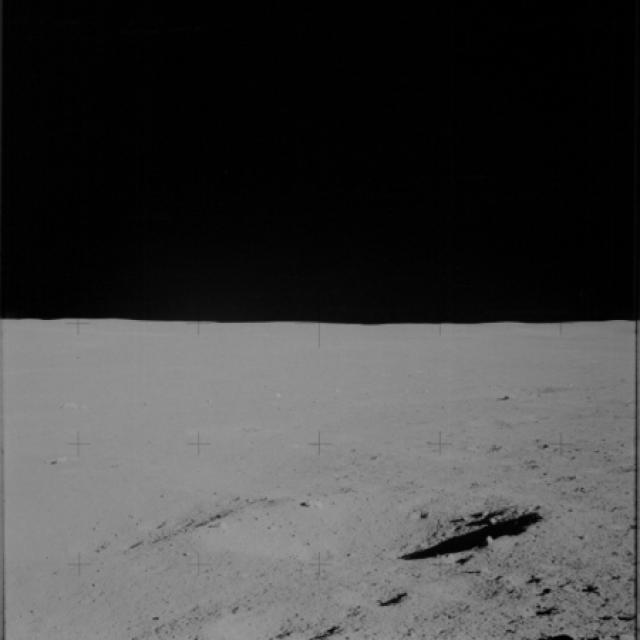crater: (184, 490, 550, 581), (85, 479, 256, 563), (202, 598, 344, 638), (330, 583, 407, 614), (506, 597, 574, 622)
